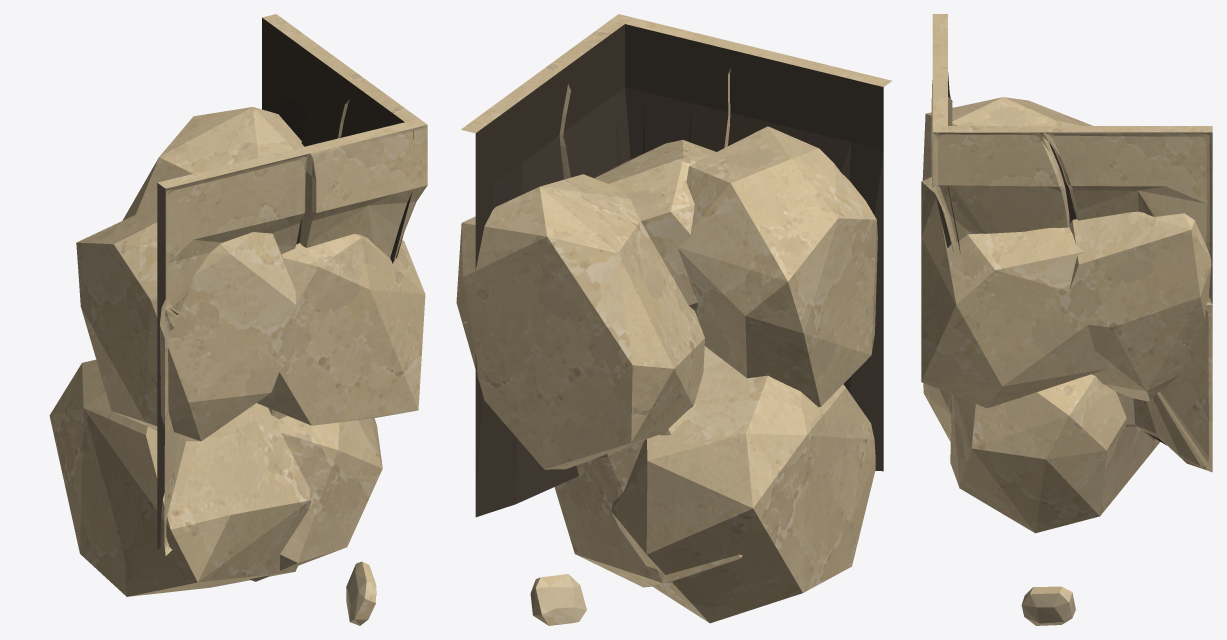
The model's file is ground_bottom_square_corner_10.glb.
3 renders of one model, left to right at view 1: azimuth 30°, elevation 25°; view 2: azimuth 150°, elevation 25°; view 3: azimuth 270°, elevation 25°, orthographic. The views are drawn at different scales.
Visible parts, largest first — view 1: GroundBottomSquareCorner10_Body; view 2: GroundBottomSquareCorner10_Body; view 3: GroundBottomSquareCorner10_Body.
Boxes of the visible parts, <box> form: GroundBottomSquareCorner10_Body: <box>49,14,427,625</box>; GroundBottomSquareCorner10_Body: <box>456,14,892,625</box>; GroundBottomSquareCorner10_Body: <box>921,14,1212,625</box>.
Bounding box in the file's own units: 1.04 × 1.97 × 1.04.
9 materials, 8 textured.
